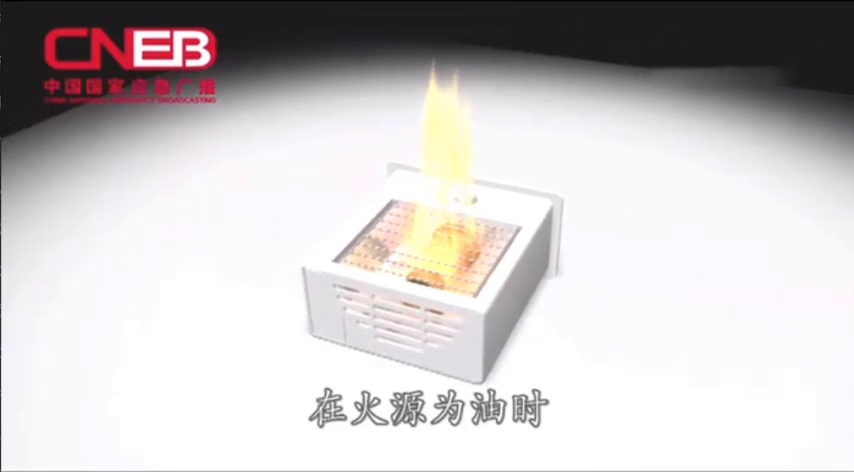fire: (404, 57, 491, 278)
